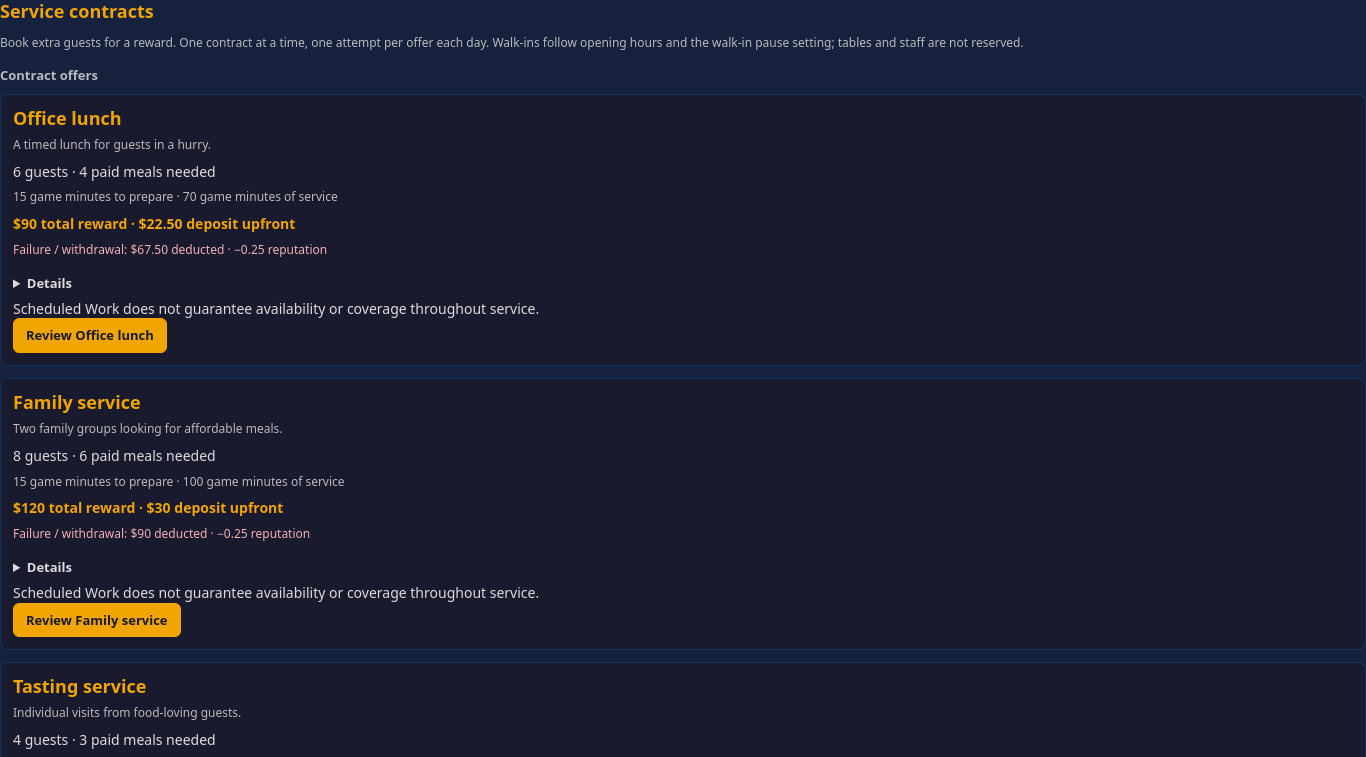
it: ServiceContractsPanel › labels projected review times across a midnight day wrap
This screenshot has width=1366, height=757.
Click the button "Review Office lunch": (90, 336) [13,318,167,353]
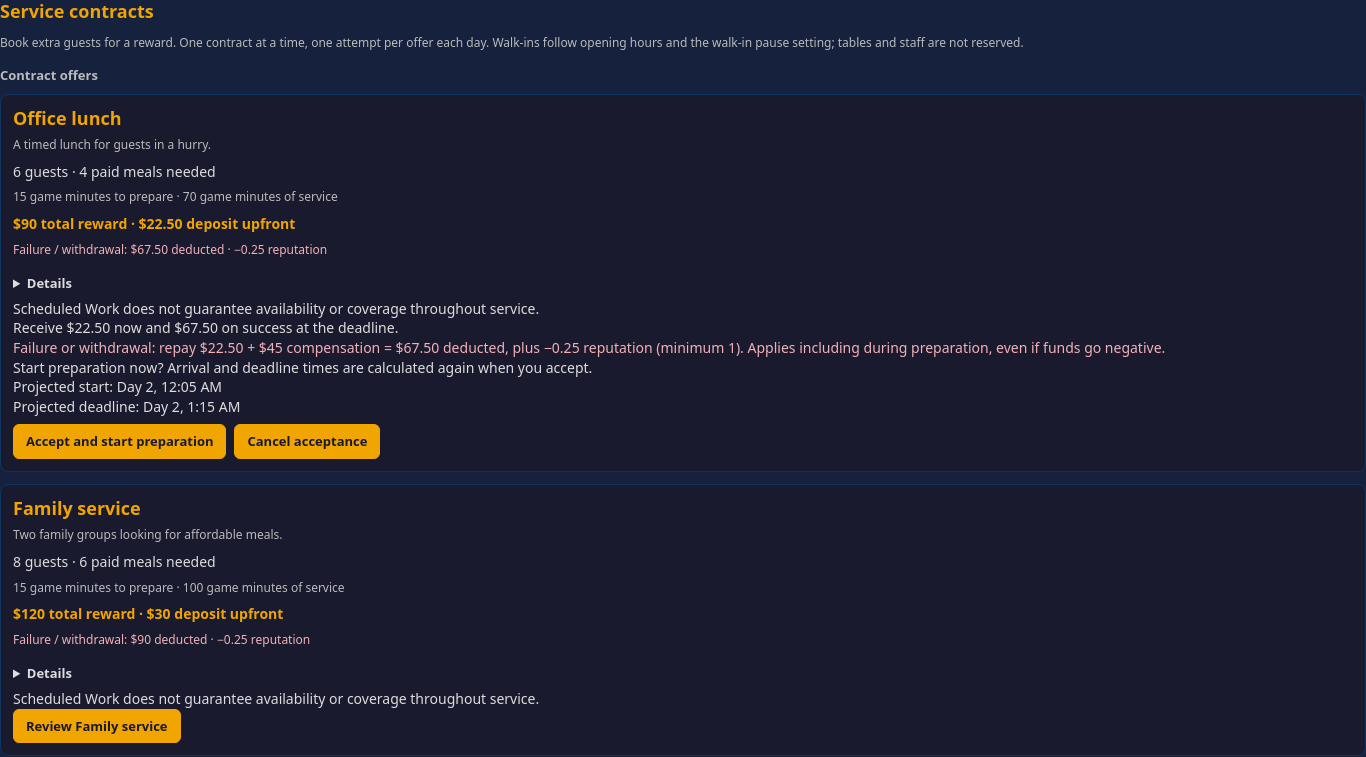
Result: the text "Projected start: Day 2, 12:05 AM" is shown at [13,377,222,396]
Result: the text "Projected deadline: Day 2, 1:15 AM" is shown at [13,397,240,416]
